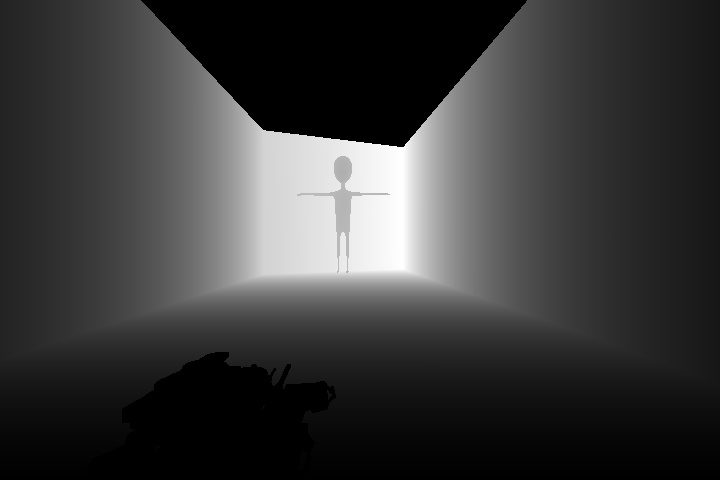alien: (295, 154, 393, 275)
